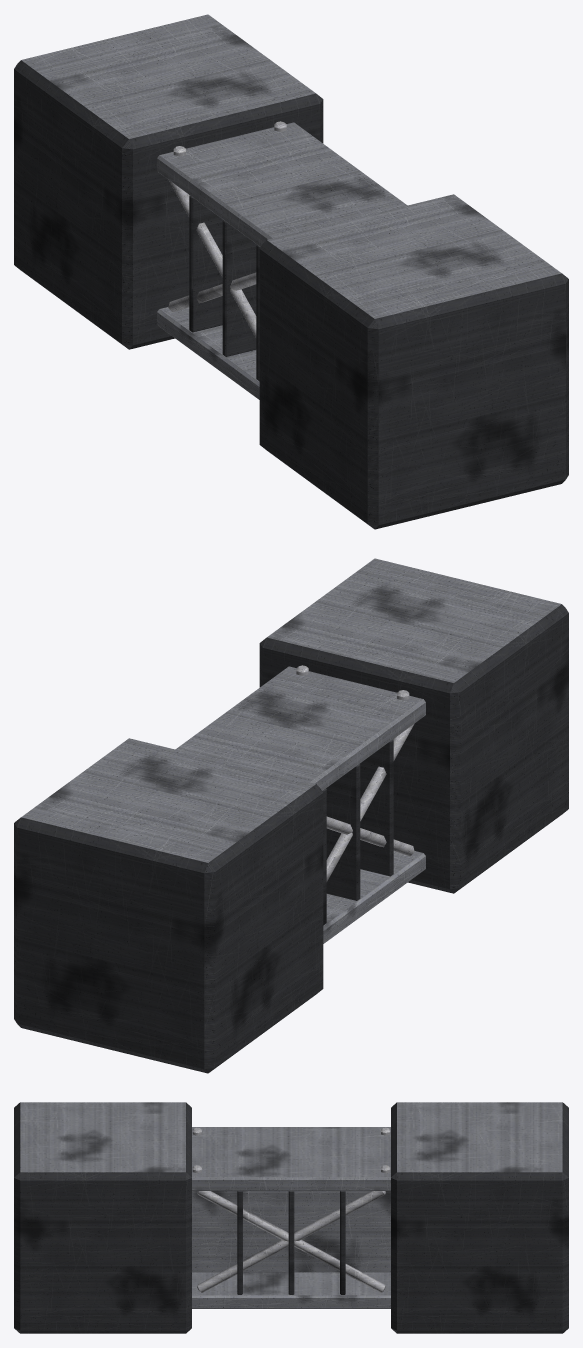
File: R4C_STRUT_STANDARD_LOD1.glb
The picture shows the model from 3 angles, top to bottom: view 1: azimuth 30°, elevation 25°; view 2: azimuth 150°, elevation 25°; view 3: azimuth 270°, elevation 25°; orthographic projection. The views are drawn at different scales.
Parts seen in each view (by area): view 1: R4C_STRUT_STANDARD_LOD1; view 2: R4C_STRUT_STANDARD_LOD1; view 3: R4C_STRUT_STANDARD_LOD1.
Boxes of the visible parts, <box> form: R4C_STRUT_STANDARD_LOD1: <box>14,14,568,529</box>; R4C_STRUT_STANDARD_LOD1: <box>14,558,568,1073</box>; R4C_STRUT_STANDARD_LOD1: <box>14,1102,568,1333</box>.
Bounding box in the file's own units: 0.52 × 0.52 × 1.62.
Materials: 3 (3 with a texture image).
